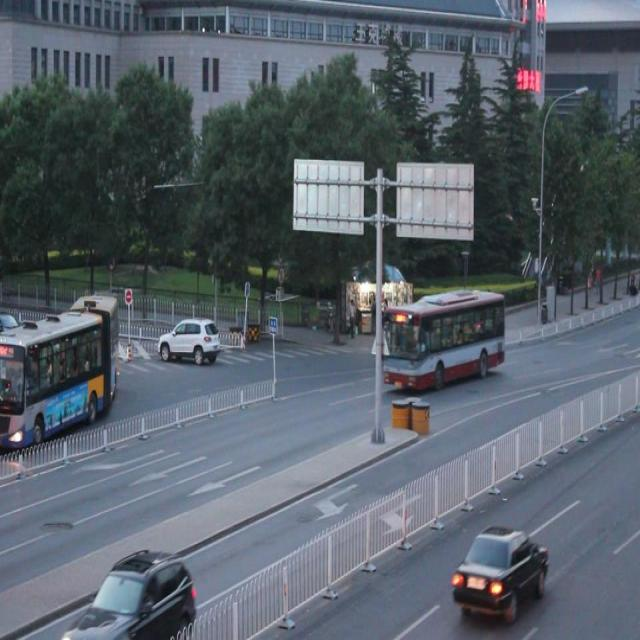car: (64, 547, 196, 640), (450, 519, 549, 625), (158, 314, 220, 364)
van: (1, 292, 120, 444), (382, 285, 504, 391)
